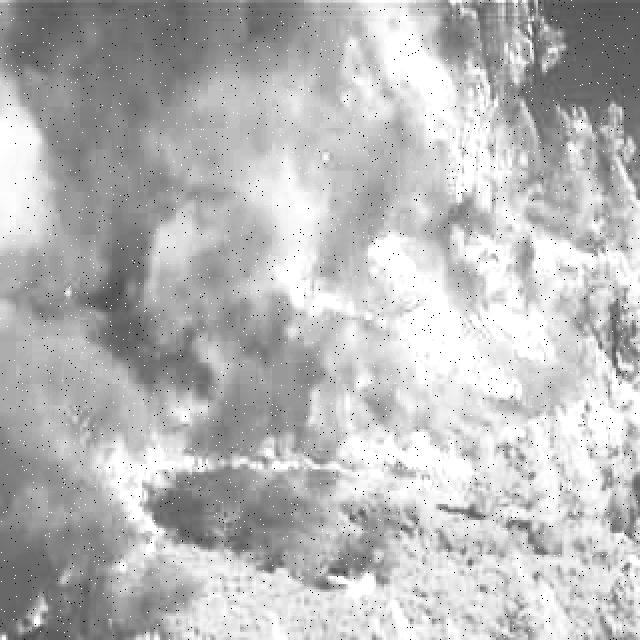api: (270, 235, 536, 415), (95, 402, 352, 483), (452, 218, 567, 373), (337, 390, 481, 482), (407, 80, 495, 170), (341, 24, 401, 130), (510, 2, 574, 90), (325, 535, 399, 597), (561, 393, 619, 445), (10, 572, 55, 633)
asap: (119, 2, 341, 430), (1, 2, 163, 500), (329, 2, 465, 252)
